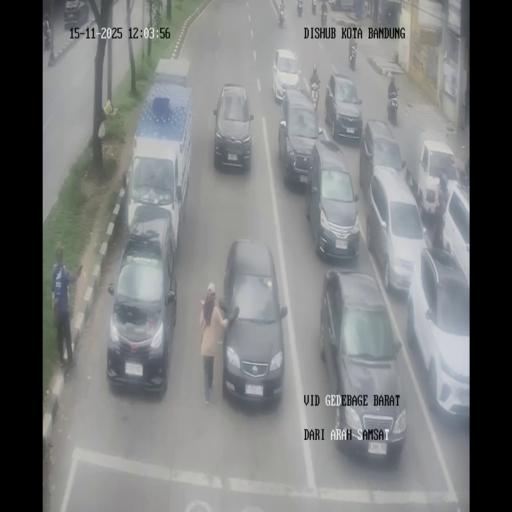3: (399, 111, 460, 216)
car: (321, 269, 405, 459), (105, 205, 180, 392), (126, 76, 194, 247), (218, 241, 286, 408), (407, 246, 469, 426), (366, 167, 425, 295), (307, 138, 360, 262), (278, 86, 320, 186), (212, 82, 254, 174), (325, 72, 363, 142), (271, 48, 301, 105), (64, 0, 90, 29), (328, 0, 354, 11)
truck: (387, 90, 399, 123), (310, 78, 320, 112), (43, 21, 51, 49), (320, 6, 328, 26), (349, 48, 356, 70), (363, 0, 371, 18), (278, 9, 284, 28), (297, 2, 303, 16), (281, 0, 285, 14), (312, 1, 316, 14)
